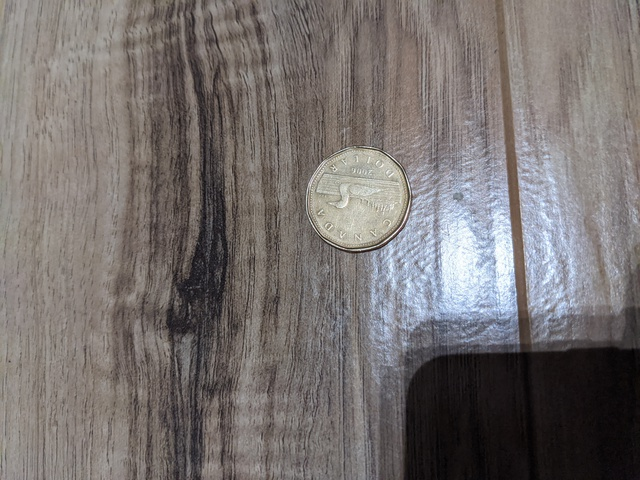loonie: (296, 137, 425, 257)
